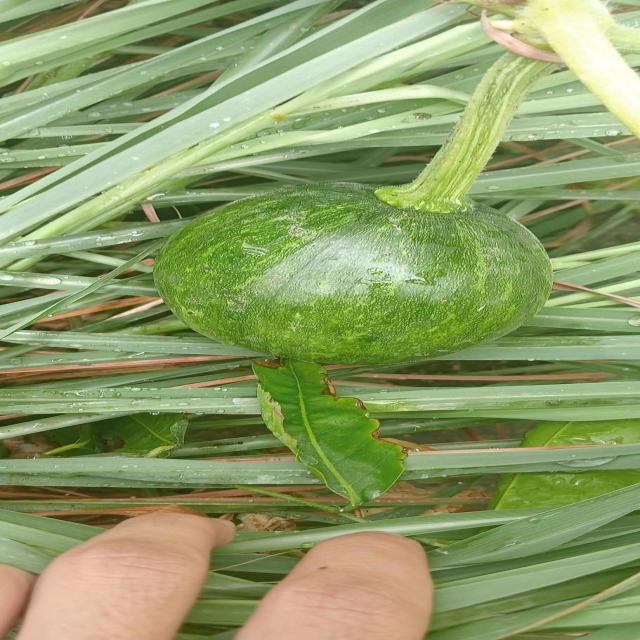squash: (129, 170, 595, 376)
